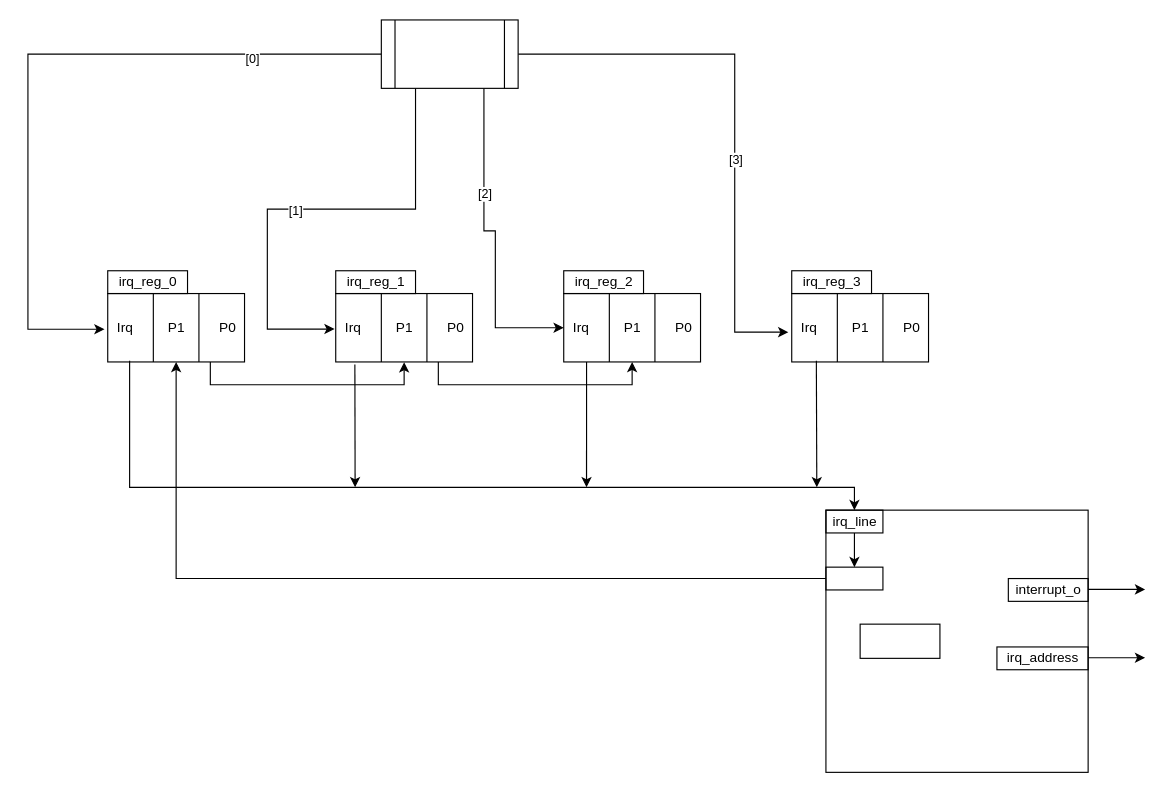
Image size: 1174x792. Some labels were removed from this diagram. The box of each missing label's shape, as (x1, y1, x2, y2) in pixels:
ack_irq: (825, 566, 883, 590)
irq_trigger[3:0]: (380, 19, 518, 88)
priority threshold: (859, 623, 940, 658)
